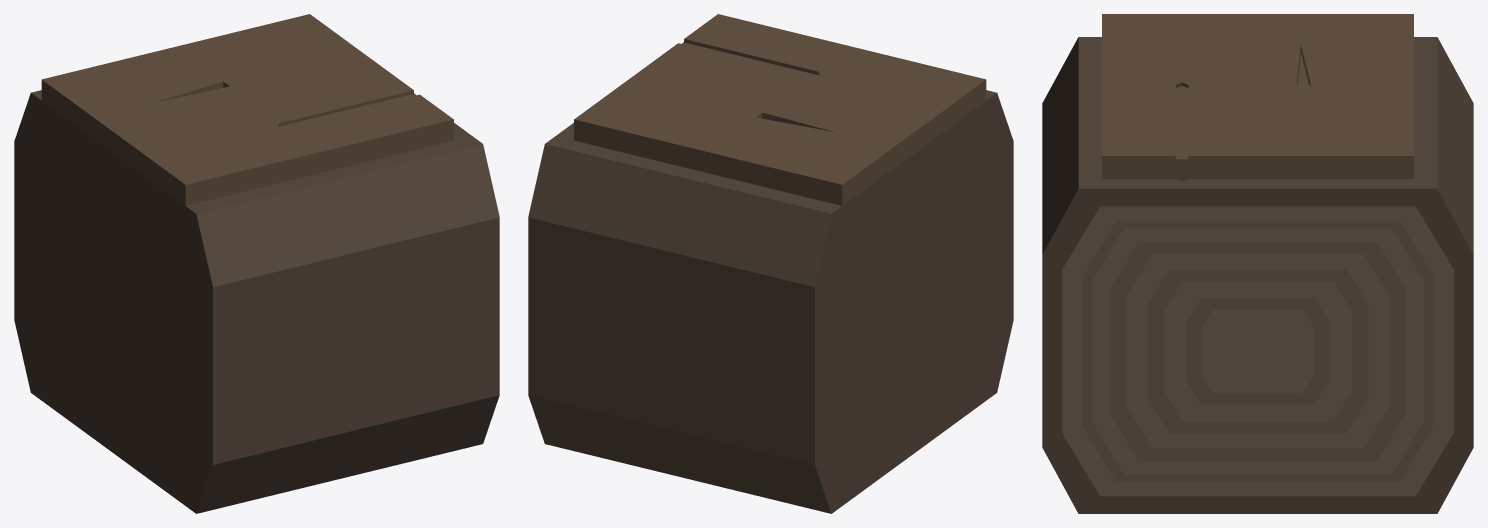
File: End.fbx
3 views of the same model, side by side, from view 1: azimuth 30°, elevation 25°; view 2: azimuth 150°, elevation 25°; view 3: azimuth 270°, elevation 25° (orthographic). The views are drawn at different scales.
Parts seen in each view (by area): view 1: Куб.018; view 2: Куб.018; view 3: Куб.018.
Part boxes in pixels (box(x1,y1,x2,y2)): Куб.018: box(14, 14, 499, 513); Куб.018: box(528, 14, 1013, 513); Куб.018: box(1042, 14, 1473, 513).
Bounding box in the file's own units: 14.93 × 15.99 × 17.94.
